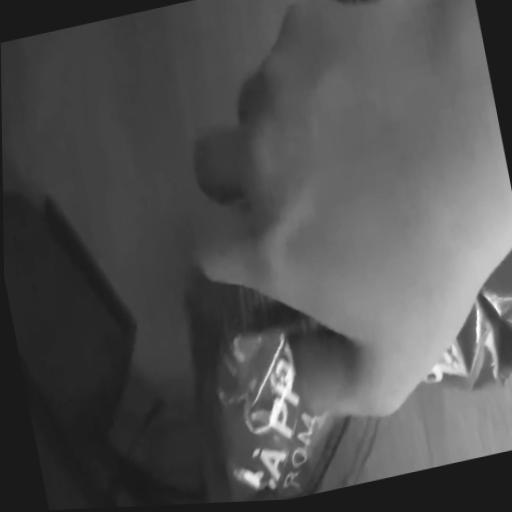cafe_xay: (187, 275, 343, 503), (426, 248, 512, 390)
